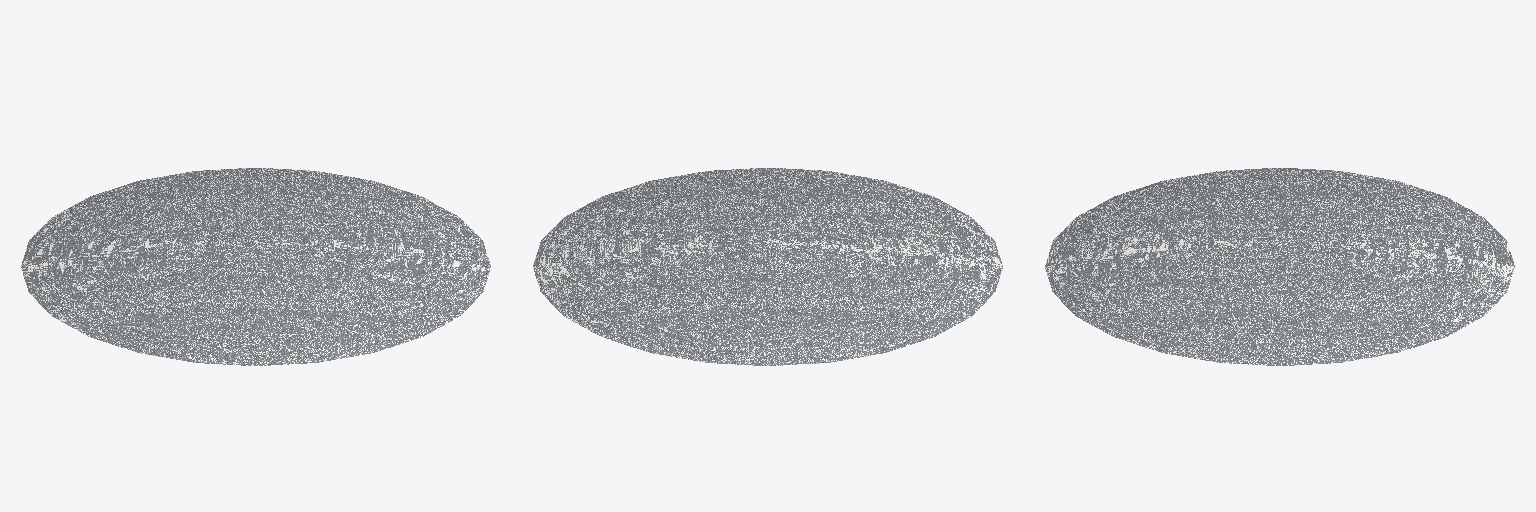
3 renders of one model, left to right at view 1: azimuth 30°, elevation 25°; view 2: azimuth 150°, elevation 25°; view 3: azimuth 270°, elevation 25°, orthographic.
Parts seen in each view (by area): view 1: group_9/ID124#ID124; view 2: group_9/ID124#ID124; view 3: group_9/ID124#ID124.
Boxes of the visible parts, x1,y1,x2,y2 form: group_9/ID124#ID124: [21, 168, 490, 365]; group_9/ID124#ID124: [533, 168, 1002, 365]; group_9/ID124#ID124: [1045, 168, 1514, 365].
Bounding box in the file's own units: 0.4816 × 0.0247 × 0.4816.
2 materials, 1 textured.